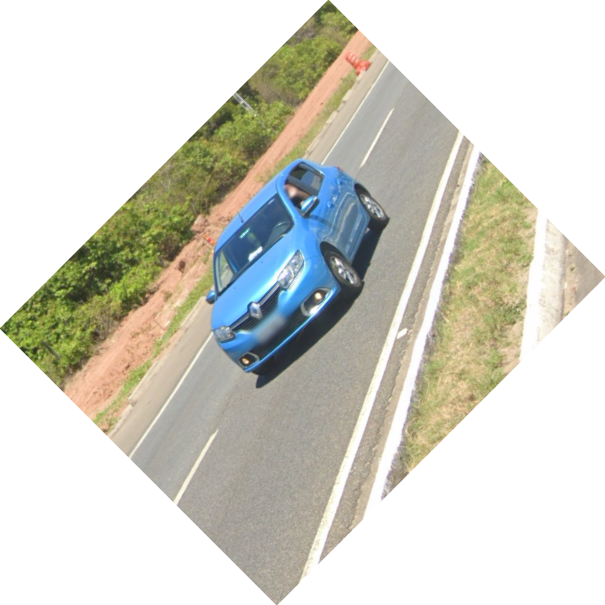car: (204, 157, 391, 380)
